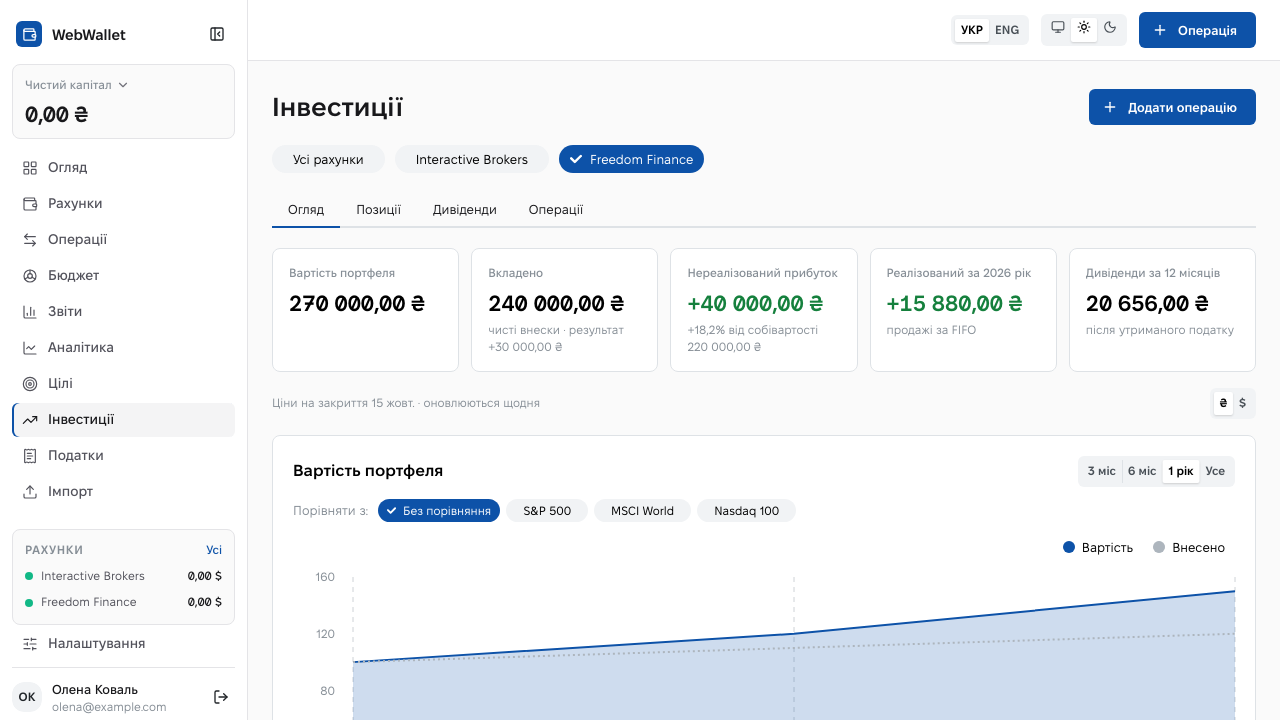
it: changes the period, the currency and the benchmark of the chart
This screenshot has width=1280, height=720.
Click the 4th radio button labelled "Усе". click: click(1215, 471)
box: [1206,464,1225,477]
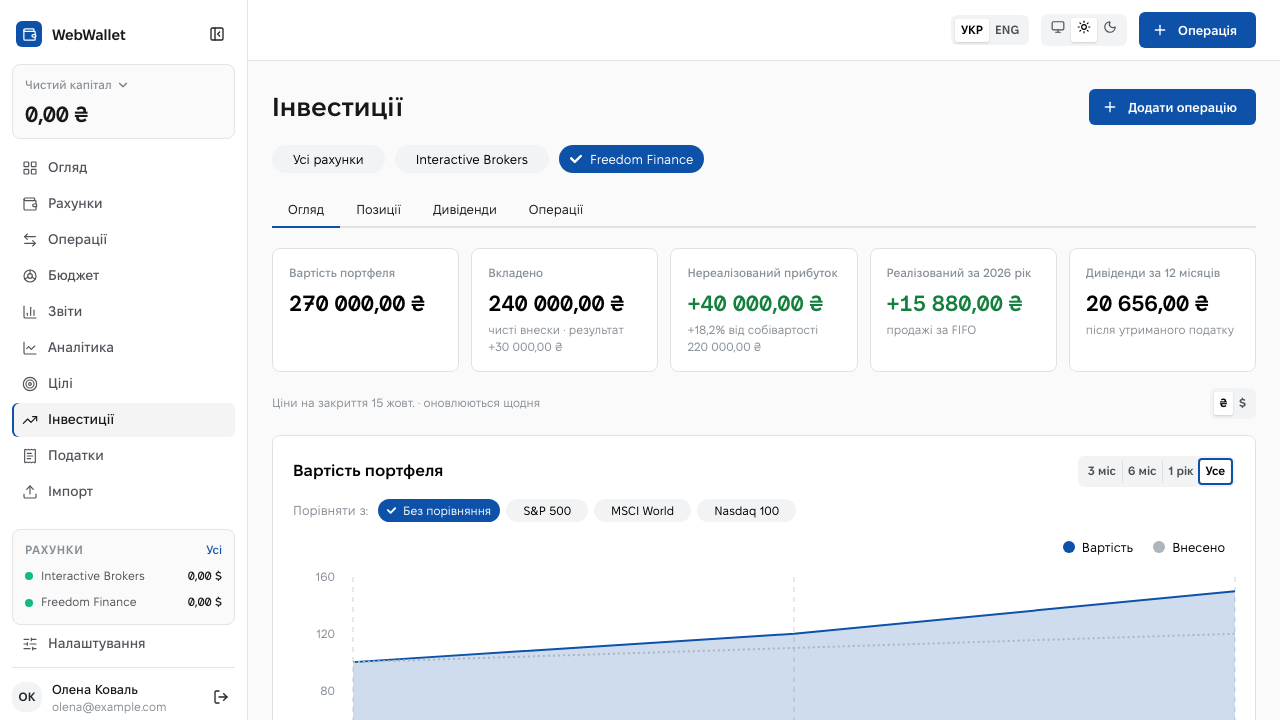
Click the 4th radio button labelled "$". click: click(1242, 403)
box: [1239,396,1246,410]
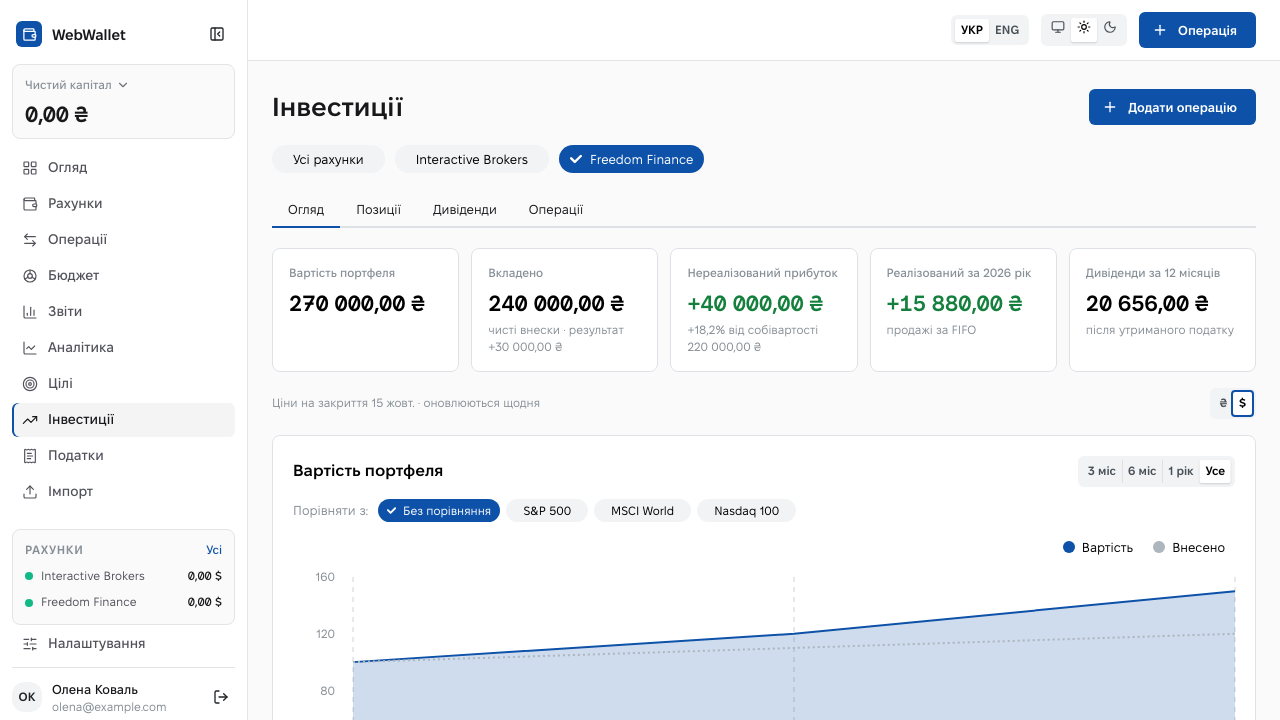
Click the 4th radio button labelled "S&P 500". click: click(547, 510)
box: [506,499,588,522]
(page scrolled)
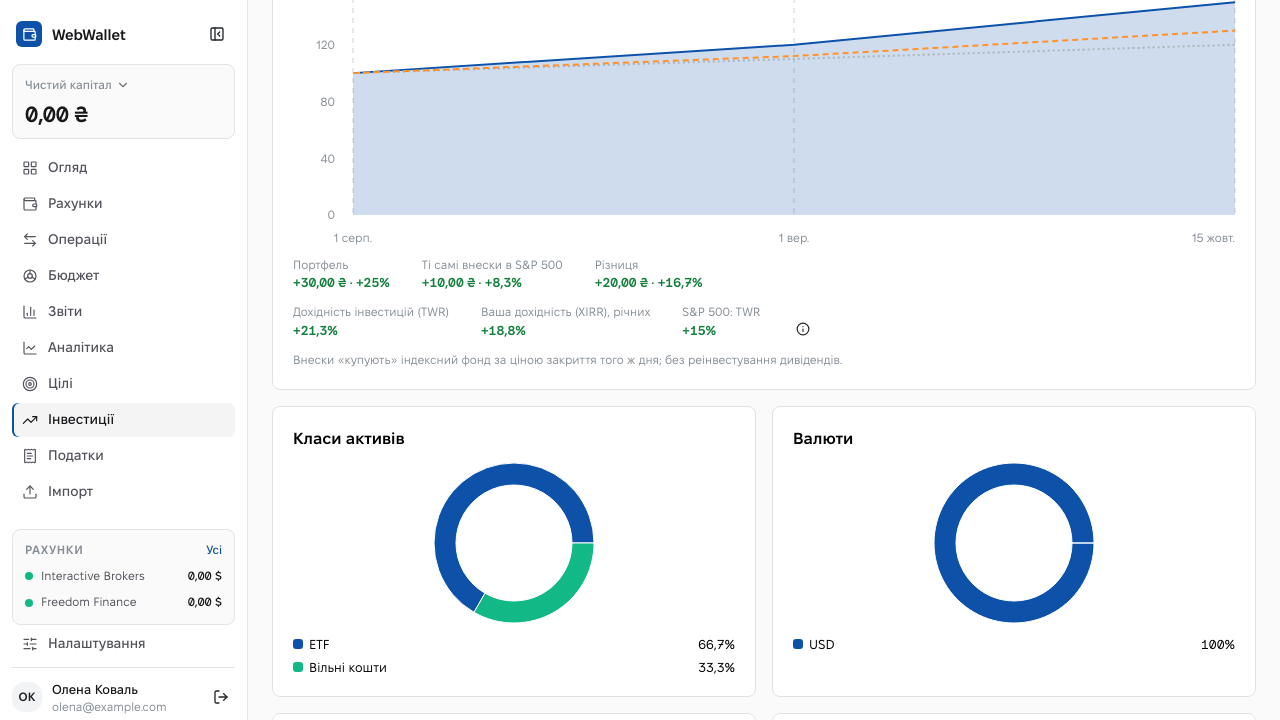
Expected: the element with test id "history-summary" shows "Ті самі внески в S&P 500", [422,258,563,271]
Expected: the text "без реінвестування дивідендів" is shown, [293,353,842,366]
